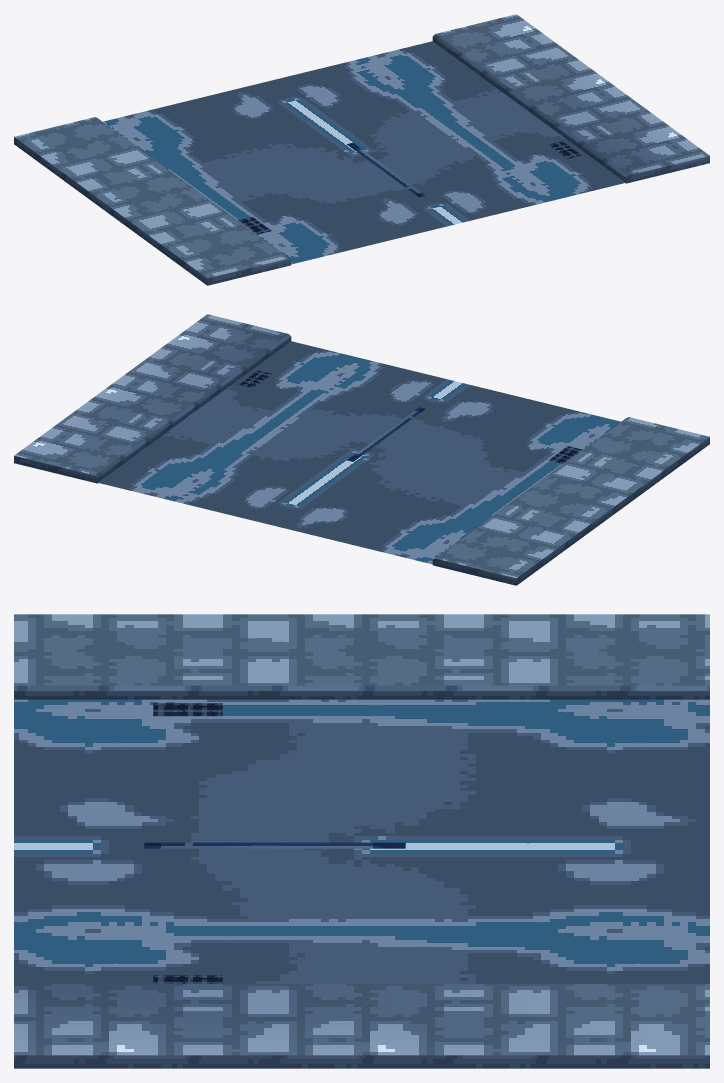
File: cystreet.road.glb
3 renders of one model, top to bottom at view 1: azimuth 30°, elevation 25°; view 2: azimuth 150°, elevation 25°; view 3: azimuth 270°, elevation 25°, orthographic. The views are drawn at different scales.
Parts seen in each view (by area): view 1: kit_shell_road, kit_walks, kit_card_paint; view 2: kit_shell_road, kit_walks, kit_card_paint; view 3: kit_shell_road, kit_walks, kit_card_paint.
Boxes of the visible parts, box(x1,y1,x2,y2) form: kit_shell_road: box(103, 41, 625, 264); kit_walks: box(14, 14, 709, 285); kit_card_paint: box(239, 141, 581, 234); kit_shell_road: box(98, 341, 620, 564); kit_walks: box(14, 314, 709, 585); kit_card_paint: box(238, 370, 581, 463); kit_shell_road: box(14, 699, 709, 983); kit_walks: box(14, 614, 709, 1068); kit_card_paint: box(144, 703, 405, 983).
Bounding box in the file's own units: 12 × 0.17 × 8.
5 materials, 5 textured.
